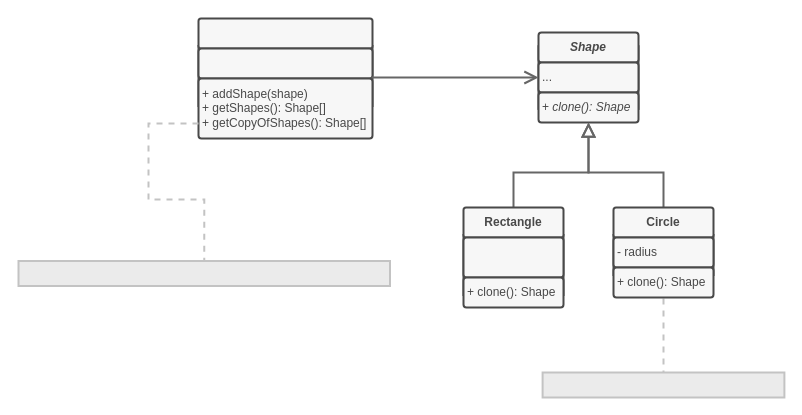
This 802x415 diagram has some shape labels left out. The centre of each missing label's shape, as x and y in pixels:
"- shapes: Shape[]" belongs at point (285, 63).
"- width - height" belongs at point (513, 257).
"Application" belongs at point (285, 33).
"return new Circle(this.radius);" belongs at point (663, 384).
"return this.shapes.map((shape) => shape.clone());" belongs at point (203, 273).
